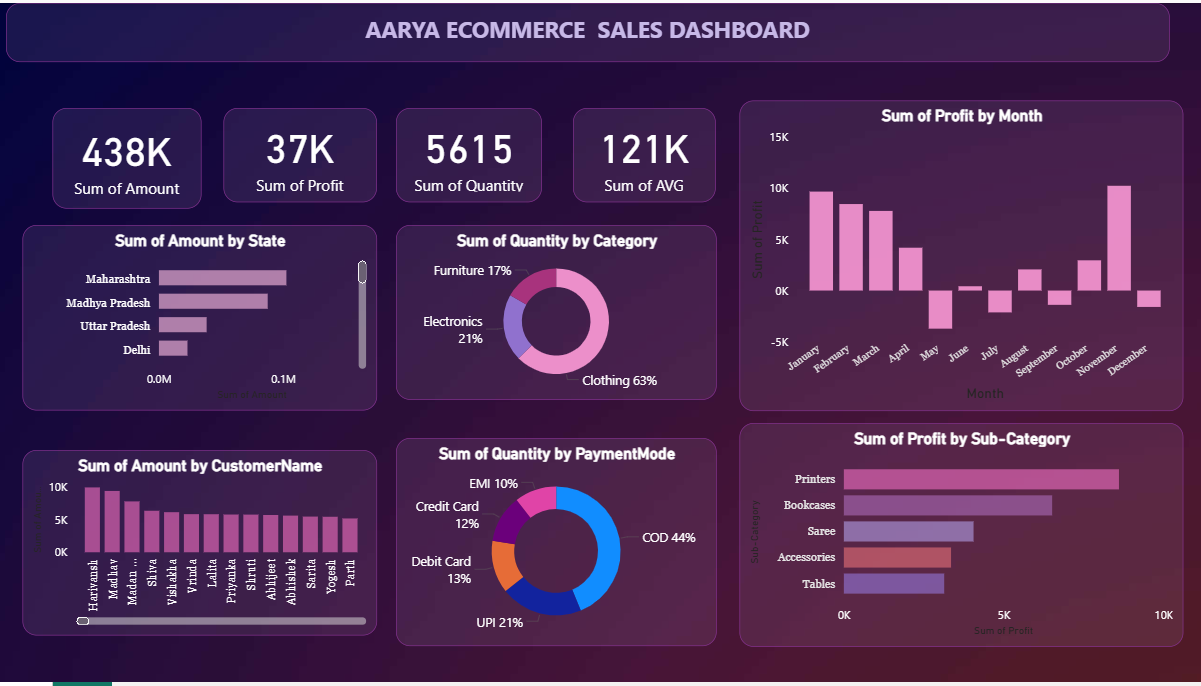

The dashboard page shown, as its layout file describes it:
{"tool":"powerbi","page":{"name":"Page 1","canvas":[1280,720],"ordinal":0},"visuals":[{"type":"textbox","box":[9.7,0,1233.9,62.9],"z":0},{"type":"columnChart","fields":{"Category":["Orders.Order Date.Variation.Date Hierarchy.Month"],"Y":["Details.Profit"]},"box":[787.1,103.2,471,329],"z":1000},{"type":"clusteredBarChart","fields":{"Category":["Details.Sub-Category"],"Y":["Details.Profit"]},"box":[787.1,445.2,471,237.1],"z":2000},{"type":"donutChart","fields":{"Category":["Details.Category"],"Y":["Details.Quantity"]},"box":[422.6,235.5,340.3,185.5],"z":3000},{"type":"donutChart","fields":{"Category":["Details.PaymentMode"],"Y":["Details.Quantity"]},"box":[422.6,461.3,340.3,221],"z":4000},{"type":"card","fields":{"Values":["Details.Quantity"]},"box":[422.6,111.3,154.8,100],"z":5000},{"type":"card","fields":{"Values":["Details.Profit"]},"box":[240.3,111.3,162.9,100],"z":6000},{"type":"card","fields":{"Values":["Details.Amount"]},"box":[58.1,111.3,158.1,106.5],"z":7000},{"type":"card","fields":{"Values":["Details.AVO"]},"box":[611.3,111.3,151.6,100],"z":8000},{"type":"clusteredBarChart","fields":{"Category":["Orders.State"],"Y":["Details.Amount"]},"box":[27.4,235.5,375.8,196.8],"z":9000},{"type":"clusteredColumnChart","fields":{"Category":["Orders.CustomerName"],"Y":["Details.Amount"]},"box":[27.4,474.2,375.8,196.8],"z":10000}]}

Visuals, with their boxes in screenshot pixels (x1, y1, x2, y2), scaled from the page's 1280x720 canvas onto the 1201x686 screenshot:
textbox: locate(9, 0, 1167, 60)
columnChart - Orders.Order Date.Variation.Date Hierarchy.Month x Details.Profit: locate(739, 98, 1180, 412)
clusteredBarChart - Details.Sub-Category x Details.Profit: locate(739, 424, 1180, 650)
donutChart - Details.Category x Details.Quantity: locate(397, 224, 716, 401)
donutChart - Details.PaymentMode x Details.Quantity: locate(397, 440, 716, 650)
card - Details.Quantity: locate(397, 106, 542, 201)
card - Details.Profit: locate(225, 106, 378, 201)
card - Details.Amount: locate(55, 106, 203, 208)
card - Details.AVO: locate(574, 106, 716, 201)
clusteredBarChart - Orders.State x Details.Amount: locate(26, 224, 378, 412)
clusteredColumnChart - Orders.CustomerName x Details.Amount: locate(26, 452, 378, 639)
